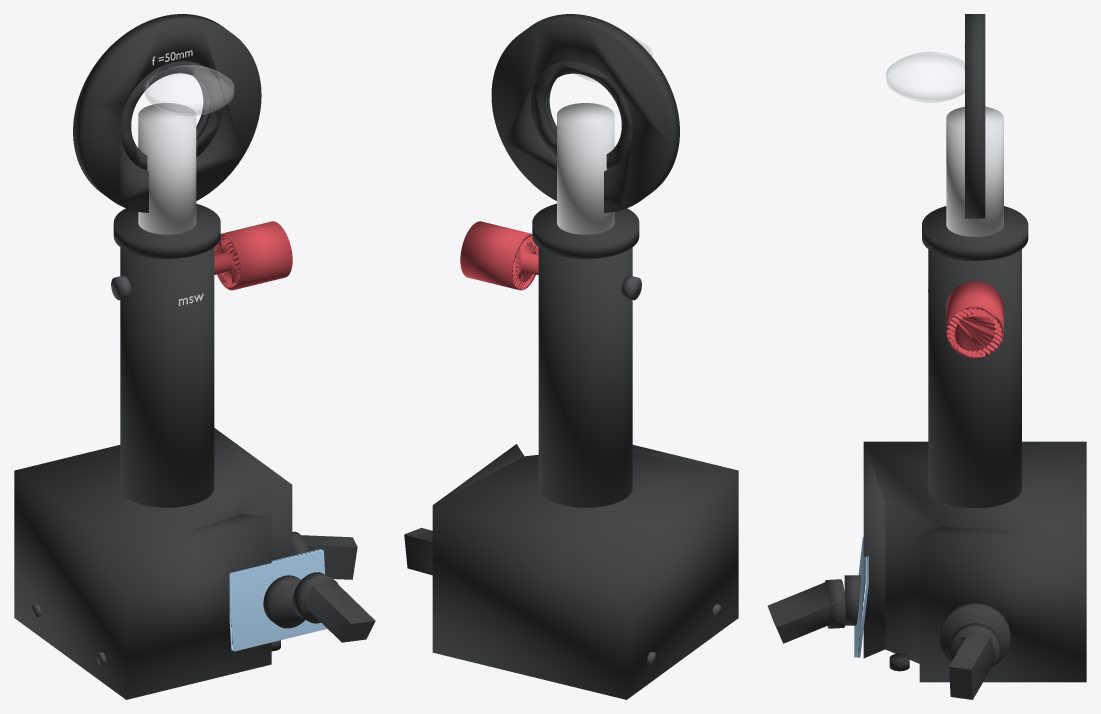
The model's file is aux_lens.glb.
The picture shows the model from 3 angles, left to right: view 1: azimuth 30°, elevation 25°; view 2: azimuth 150°, elevation 25°; view 3: azimuth 270°, elevation 25°; orthographic projection.
Visible parts, largest first — view 1: AuxLens_Base, AuxLens_Post, LensOuterRing, AuxLens_Rod, FrontBluePlate, PostRedLockKnob, AuxiliaryLens, AuxLens_TopCollar, FrontHandle, LensFrontRetainer, SideAdjustmentHandle, FrontKnobBase; view 2: AuxLens_Base, AuxLens_Post, LensOuterRing, AuxLens_Rod, PostRedLockKnob, AuxLens_TopCollar, LensRearRetainer, SideAdjustmentHandle; view 3: AuxLens_Base, AuxLens_Post, AuxLens_Rod, LensOuterRing, PostRedLockKnob, AuxLens_TopCollar, AuxiliaryLens, FrontHandle, SideAdjustmentHandle, SideAdjustmentPlate, FrontBluePlate, FrontKnobBase.
Boxes of the visible parts, x1,y1,x2,y2 form: AuxLens_Base: (14, 428, 292, 699); AuxLens_Post: (120, 247, 214, 507); LensOuterRing: (73, 14, 261, 212); AuxLens_Rod: (138, 103, 196, 234); FrontBluePlate: (229, 549, 327, 651); PostRedLockKnob: (214, 221, 292, 290); AuxiliaryLens: (145, 65, 233, 115); AuxLens_TopCollar: (113, 203, 220, 258); FrontHandle: (292, 572, 375, 642); LensFrontRetainer: (120, 61, 223, 170); SideAdjustmentHandle: (292, 531, 357, 579); FrontKnobBase: (263, 575, 305, 628); AuxLens_Base: (432, 444, 738, 699); AuxLens_Post: (538, 247, 632, 507); LensOuterRing: (491, 14, 679, 212); AuxLens_Rod: (557, 103, 614, 234); PostRedLockKnob: (460, 221, 538, 290); AuxLens_TopCollar: (532, 203, 639, 258); LensRearRetainer: (531, 61, 632, 168); SideAdjustmentHandle: (404, 527, 432, 575); AuxLens_Base: (863, 441, 1086, 682); AuxLens_Post: (928, 249, 1021, 508); AuxLens_Rod: (946, 106, 1003, 236); LensOuterRing: (965, 14, 985, 218); PostRedLockKnob: (946, 281, 1003, 358); AuxLens_TopCollar: (922, 206, 1028, 260); AuxiliaryLens: (886, 52, 964, 102); FrontHandle: (767, 579, 845, 643); SideAdjustmentHandle: (949, 623, 999, 699); SideAdjustmentPlate: (940, 603, 1010, 665); FrontBluePlate: (854, 537, 868, 657); FrontKnobBase: (844, 575, 861, 625).
Bounding box in the file's own units: 0.0906 × 0.1878 × 0.0888.
